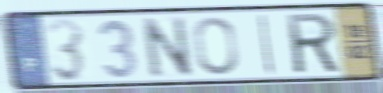3: (45, 16, 90, 84), (96, 16, 139, 81)
I: (257, 12, 277, 78)
N: (139, 14, 196, 80)
O: (191, 15, 241, 77)
R: (284, 11, 343, 77)
